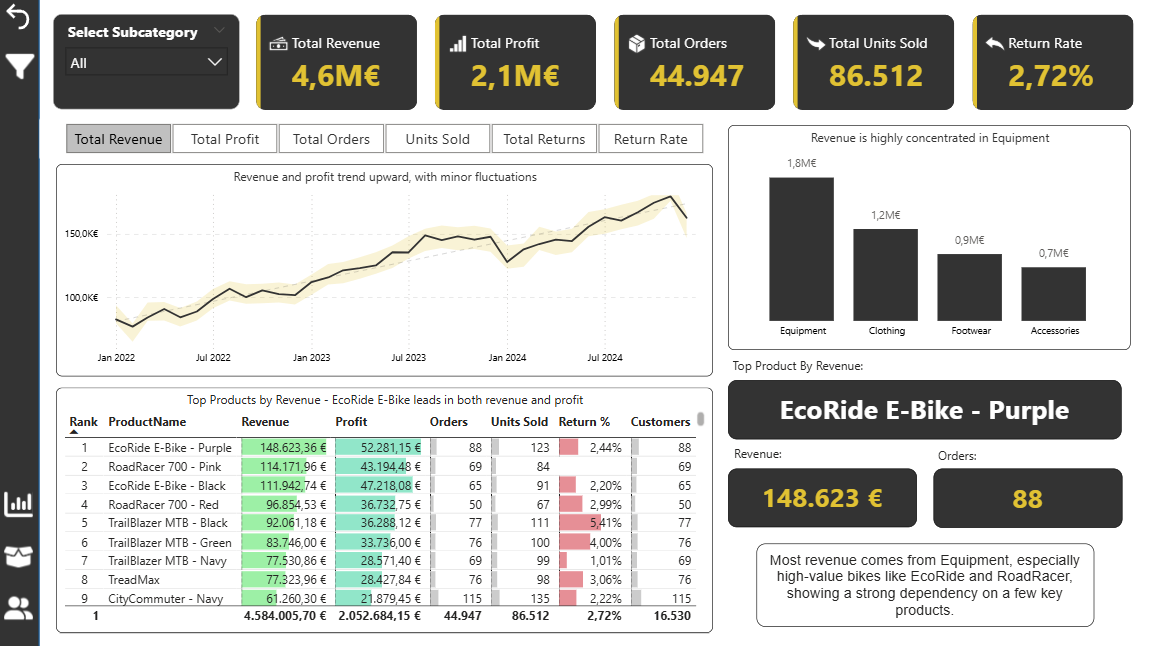

What the dashboard file says about the page in this screenshot:
{"tool":"powerbi","page":{"name":"Product Analysis","canvas":[1280,720],"ordinal":1},"visuals":[{"type":"shape","box":[0,0,45,720],"z":0},{"type":"cardVisual","fields":{"Data":["DAX Measures.Total Revenue","DAX Measures.Total Profit","DAX Measures.Total Orders","DAX Measures.Quantity Sold","DAX Measures.Return Rate"]},"box":[245.7,0,1034.3,140],"z":1000},{"type":"tableEx","title":"Top Products Performance","fields":{"Values":["DAX Measures.Product Rank(revenue)","Dim_Product.ProductName","DAX Measures.Total Revenue","DAX Measures.Total Profit","DAX Measures.Total Orders","DAX Measures.Quantity Sold","DAX Measures.Return Rate","DAX Measures.Total Customers"]},"box":[60.7,420.3,750.3,277.1],"z":2000},{"type":"slicer","fields":{"Values":["Parameter.Parameter"]},"box":[60,128.6,750,54.3],"z":3000},{"type":"slicer","fields":{"Values":["Dim_Product_Category.CategoryName"]},"box":[60,16.7,185.6,105.6],"z":4000},{"type":"lineChart","title":"Product Metric Trend","fields":{"Y":["DAX Measures.Total Revenue"],"Category":["Dim_Calendar.Start of Month"]},"box":[60,182.9,750,235.7],"z":5000},{"type":"lineClusteredColumnComboChart","title":"Metric by Category","fields":{"Y":["DAX Measures.Total Revenue"],"Category":["Dim_Product_Category.CategoryName"]},"box":[810,140,447.1,238.6],"z":6000},{"type":"textbox","box":[848.1,377.1,227.1,31.4],"z":7000},{"type":"card","fields":{"Values":["Min(Dim_Product.ProductName)"]},"box":[848.1,405.7,398.6,65.7],"z":8000},{"type":"textbox","box":[849.5,472.1,227.1,31.4],"z":9000},{"type":"card","fields":{"Values":["DAX Measures.Total Revenue"]},"box":[849.6,501,188.6,65.7],"z":10000},{"type":"textbox","box":[1058.1,471.9,188.6,30],"z":11000},{"type":"card","fields":{"Values":["DAX Measures.Total Orders"]},"box":[1058.1,500.4,188.6,65.7],"z":12000},{"type":"textbox","box":[858.3,583.3,375,115],"z":13000},{"type":"actionButton","box":[1.4,0,44.3,38.6],"z":14000},{"type":"actionButton","box":[1.4,657.1,45.7,40],"z":15000},{"type":"actionButton","box":[1.4,600,44.3,40],"z":16000},{"type":"actionButton","box":[1.4,541.4,45.7,40],"z":17000},{"type":"actionButton","box":[2.9,55,44.3,40],"z":18000}]}

Visuals, with their boxes on the page's 1280x720 design canvas (x1, y1, x2, y2). These are canvas units, not pixel positions in the 1150x646 screenshot, which may show the page scaled, cropped or inside an application window:
shape: [0, 0, 45, 720]
cardVisual - DAX Measures.Total Revenue x DAX Measures.Total Profit: [246, 0, 1280, 140]
"Top Products Performance" tableEx: [61, 420, 811, 697]
slicer - Parameter.Parameter: [60, 129, 810, 183]
slicer - Dim_Product_Category.CategoryName: [60, 17, 246, 122]
"Product Metric Trend" lineChart: [60, 183, 810, 419]
"Metric by Category" lineClusteredColumnComboChart: [810, 140, 1257, 379]
textbox: [848, 377, 1075, 408]
card - Min(Dim_Product.ProductName): [848, 406, 1247, 471]
textbox: [850, 472, 1077, 504]
card - DAX Measures.Total Revenue: [850, 501, 1038, 567]
textbox: [1058, 472, 1247, 502]
card - DAX Measures.Total Orders: [1058, 500, 1247, 566]
textbox: [858, 583, 1233, 698]
actionButton: [1, 0, 46, 39]
actionButton: [1, 657, 47, 697]
actionButton: [1, 600, 46, 640]
actionButton: [1, 541, 47, 581]
actionButton: [3, 55, 47, 95]
